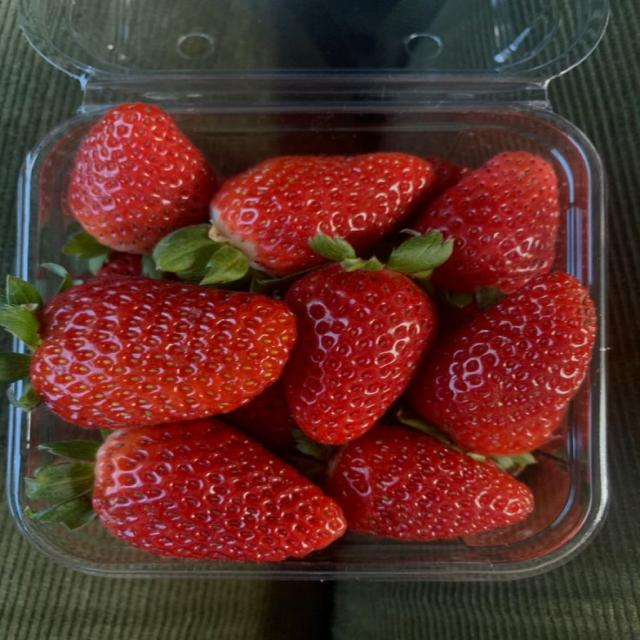strawberry: (27, 419, 346, 561), (22, 277, 295, 427), (407, 273, 596, 454), (283, 259, 436, 444), (211, 153, 434, 275), (327, 425, 533, 540), (67, 104, 216, 253), (414, 152, 559, 292), (464, 455, 571, 546), (225, 381, 296, 450), (426, 157, 471, 198), (96, 252, 142, 277)
